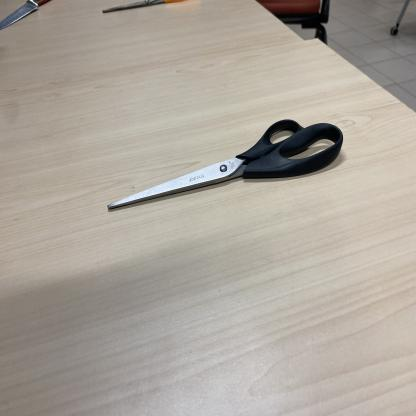Knife: (0, 0, 54, 32)
scissors: (107, 119, 344, 212), (102, 0, 195, 14)
